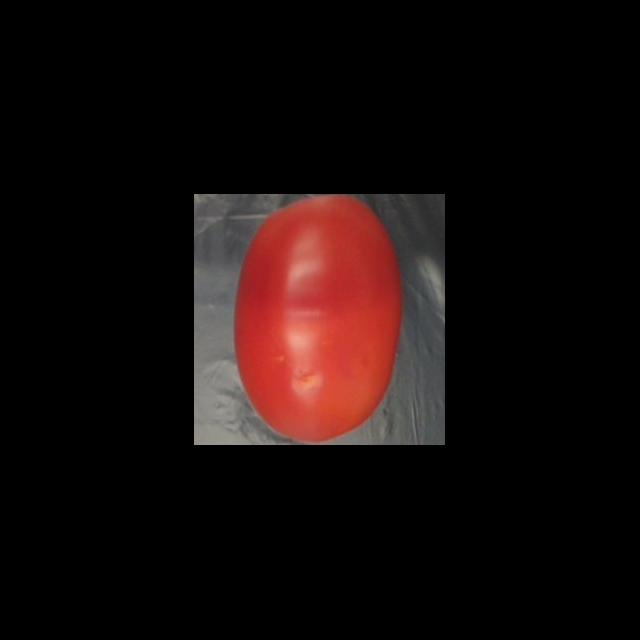tomato: (229, 196, 409, 444)
